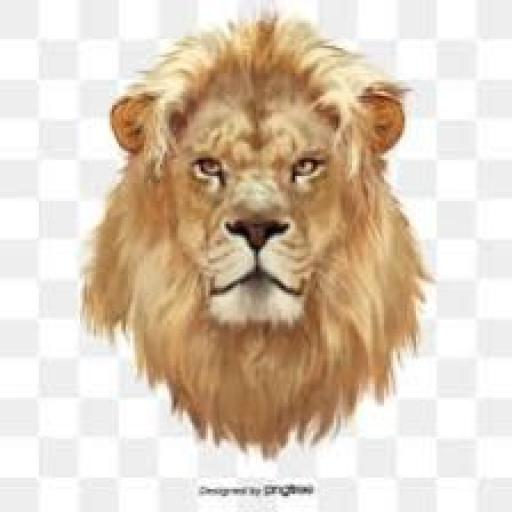lion: (78, 7, 435, 462)
